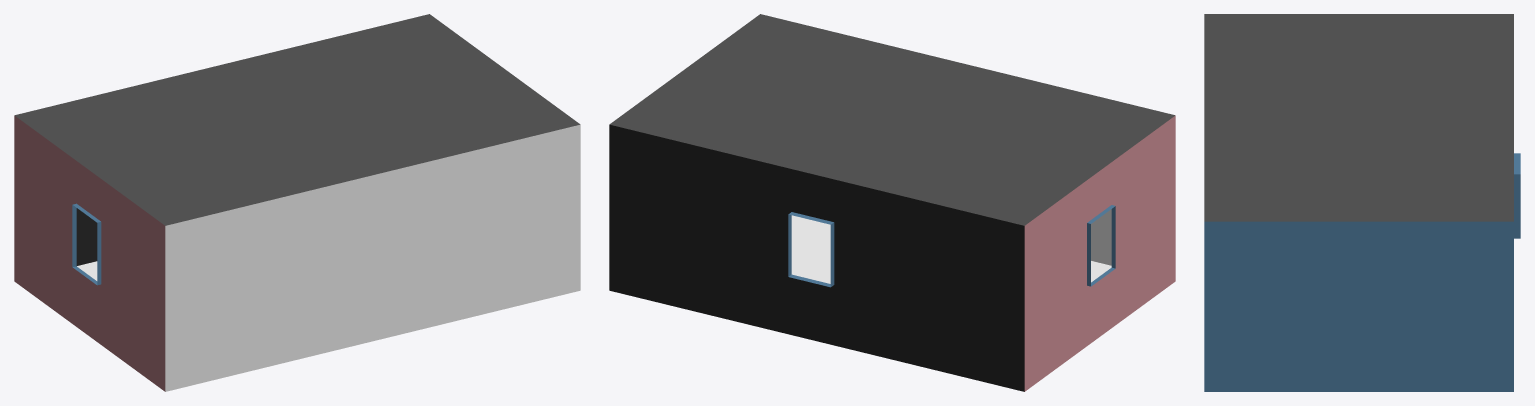
The model's file is mur_room.FBX.
The picture shows the model from 3 angles, left to right: view 1: azimuth 30°, elevation 25°; view 2: azimuth 150°, elevation 25°; view 3: azimuth 270°, elevation 25°; orthographic projection. The views are drawn at different scales.
Visible parts, largest first — view 1: mur_room; view 2: mur_room; view 3: mur_room.
Boxes of the visible parts, box(x1,y1,x2,y2) form: mur_room: box(14, 14, 580, 391); mur_room: box(609, 14, 1175, 391); mur_room: box(1204, 14, 1520, 391).
Size of the model in its own units: 8.14 by 3.08 by 5.19.
